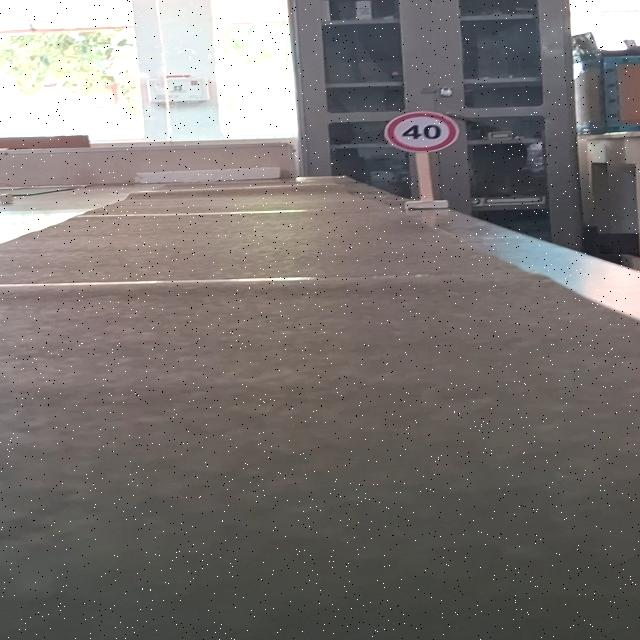Speed40: (384, 110, 462, 154)
